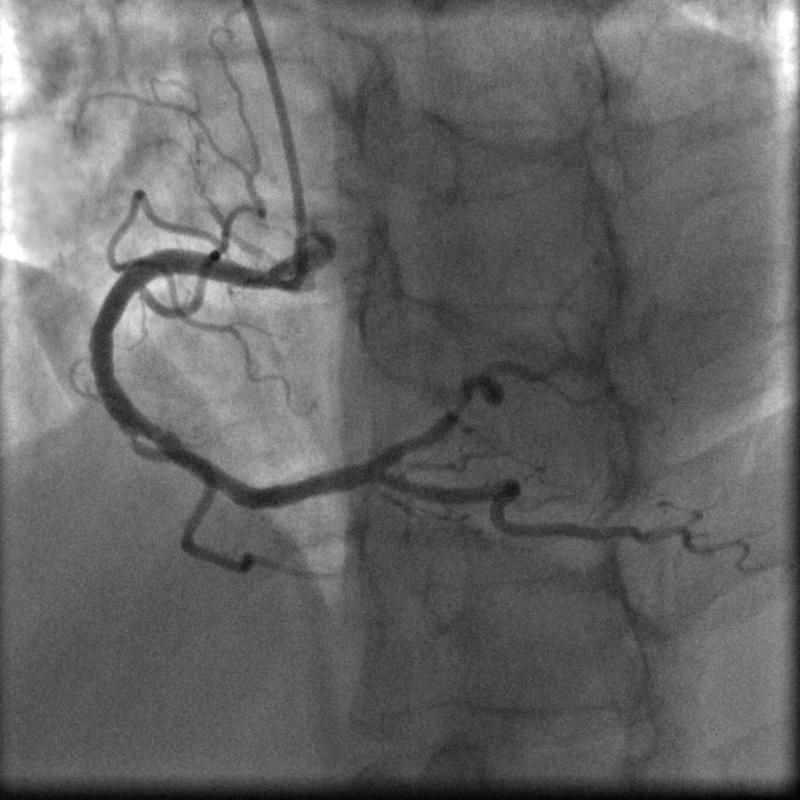Stenosis: (439, 384, 471, 422)
